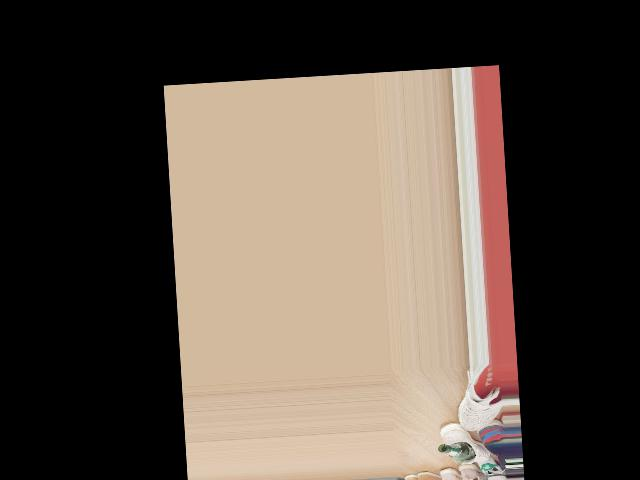beer: (437, 441, 475, 461)
